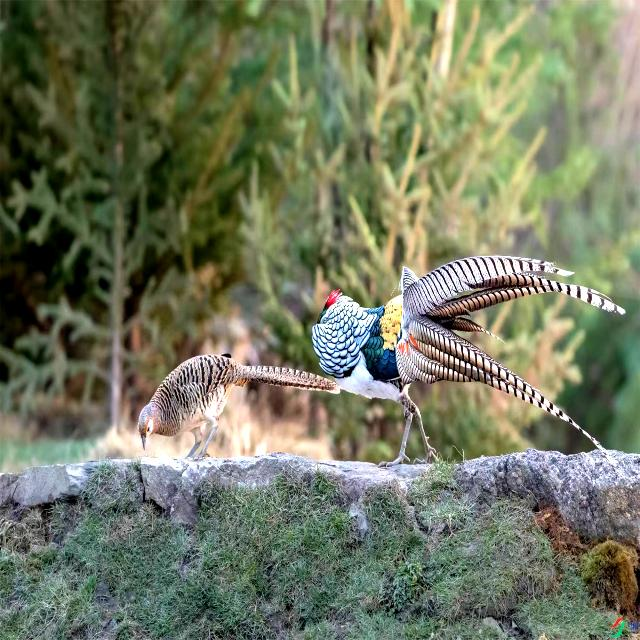Chrysolophus amherstiae: (395, 256, 624, 423)
